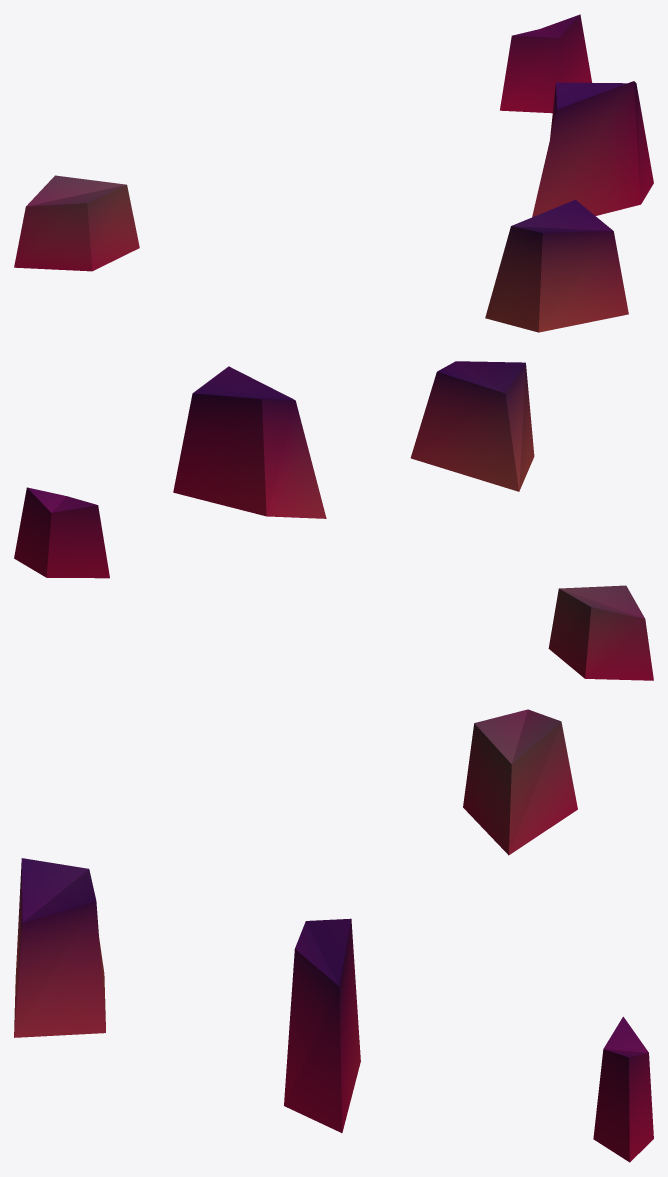
Rendered from SM_CinderCanyon_Debris_LOD2.fbx.
3 views of the same model, one above another, from view 1: azimuth 30°, elevation 25°; view 2: azimuth 150°, elevation 25°; view 3: azimuth 270°, elevation 25° (orthographic). The views are drawn at different scales.
Visible parts, largest first — view 1: SM_CinderCanyon_Debris_LOD2; view 2: SM_CinderCanyon_Debris_LOD2; view 3: SM_CinderCanyon_Debris_LOD2.
Part boxes in pixels (x1,y1,x2,y2): SM_CinderCanyon_Debris_LOD2: (14, 14, 653, 332); SM_CinderCanyon_Debris_LOD2: (14, 361, 653, 680); SM_CinderCanyon_Debris_LOD2: (14, 709, 653, 1162).
Size of the model in its own units: 100 by 70 by 20.
